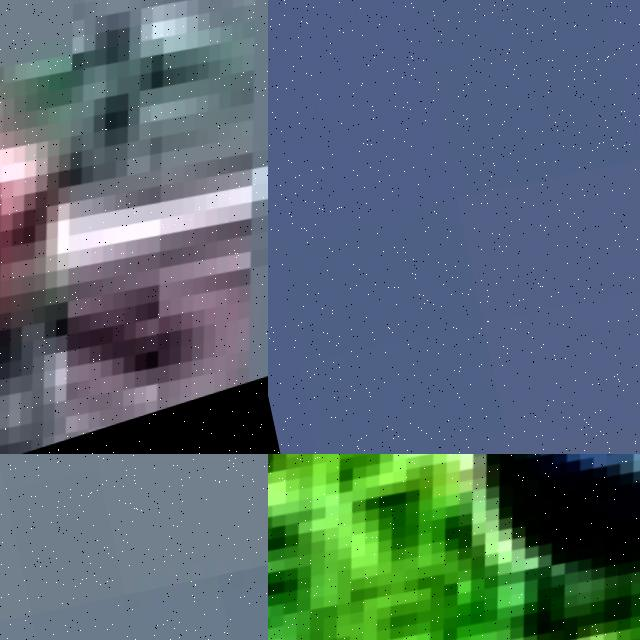0: (0, 0, 268, 454)
drone: (268, 454, 640, 640)
